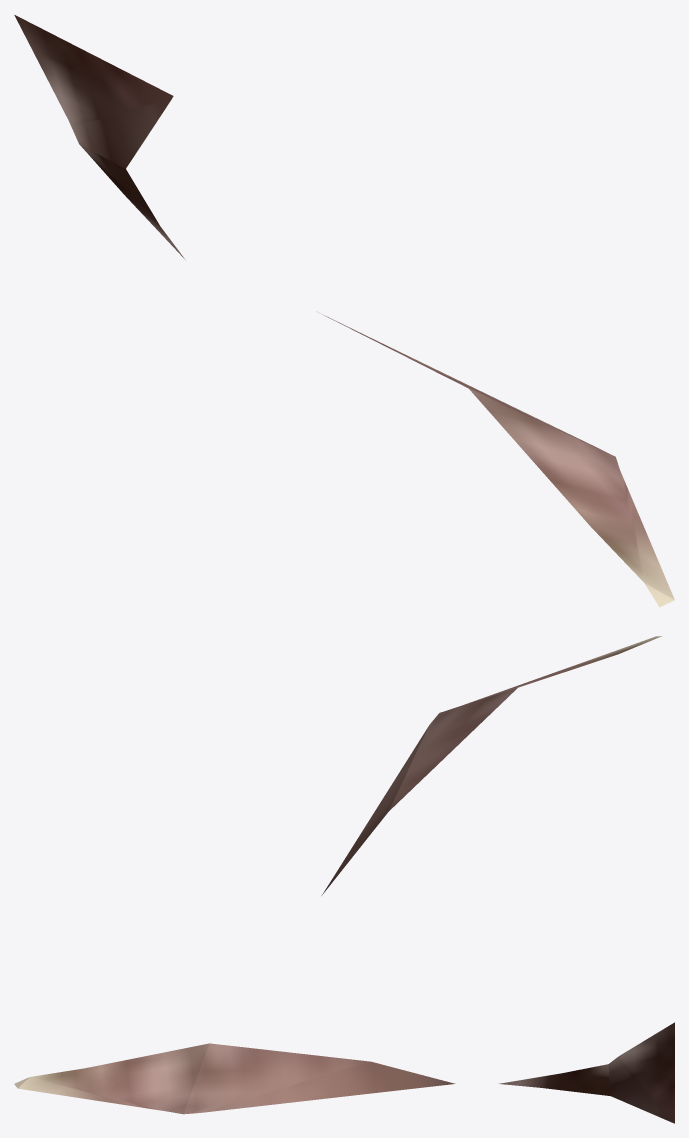
3 views of the same model, one above another, from view 1: azimuth 30°, elevation 25°; view 2: azimuth 150°, elevation 25°; view 3: azimuth 270°, elevation 25° (orthographic). The views are drawn at different scales.
Bounding box in the file's own units: 0.0227 × 0.0164 × 0.1588.
Materials: 1 (1 with a texture image).
